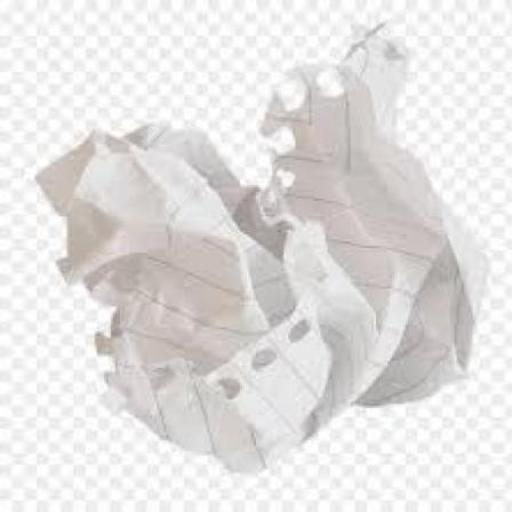paper: (12, 14, 508, 487)
